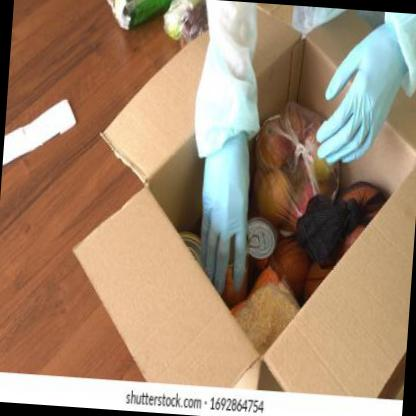Gloves: (313, 18, 411, 170), (193, 127, 256, 297)
